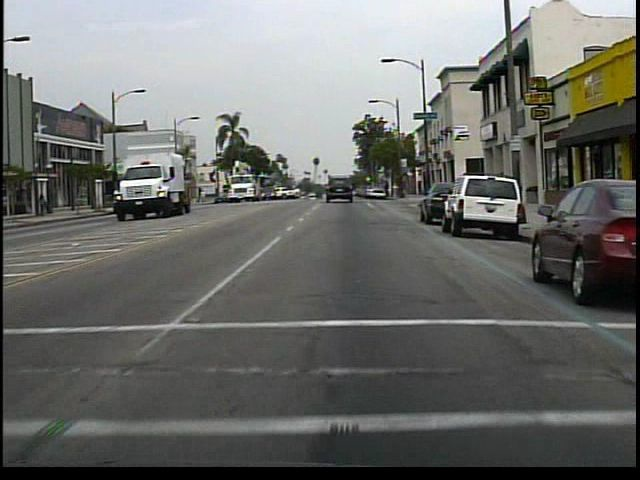person: (41, 192, 51, 218)
